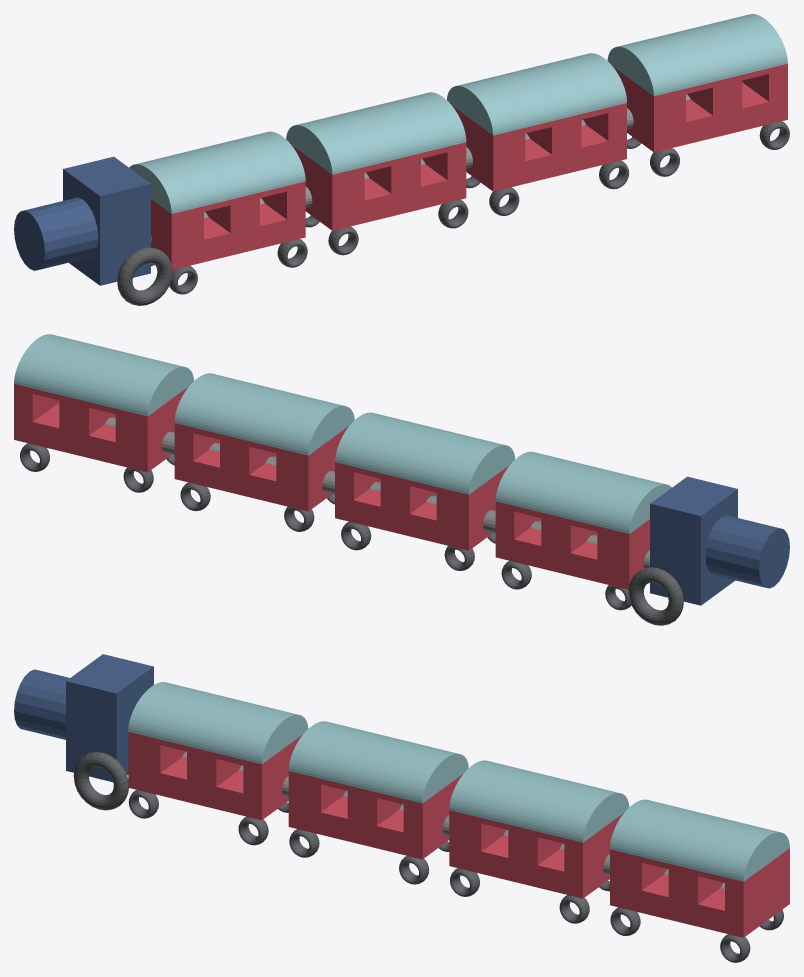
Rendered from train.glb.
3 renders of one model, top to bottom at view 1: azimuth 30°, elevation 25°; view 2: azimuth 150°, elevation 25°; view 3: azimuth 330°, elevation 25°, orthographic.
Parts seen in each view (by area): view 1: Mesh_Mesh_head_geo.001_lambert2SG.001; view 2: Mesh_Mesh_head_geo.001_lambert2SG.001; view 3: Mesh_Mesh_head_geo.001_lambert2SG.001.
Boxes of the visible parts, x1,y1,x2,y2 form: Mesh_Mesh_head_geo.001_lambert2SG.001: (14, 14, 789, 305); Mesh_Mesh_head_geo.001_lambert2SG.001: (14, 334, 789, 625); Mesh_Mesh_head_geo.001_lambert2SG.001: (14, 654, 789, 962).
Bounding box in the file's own units: 276 × 41 × 35.
